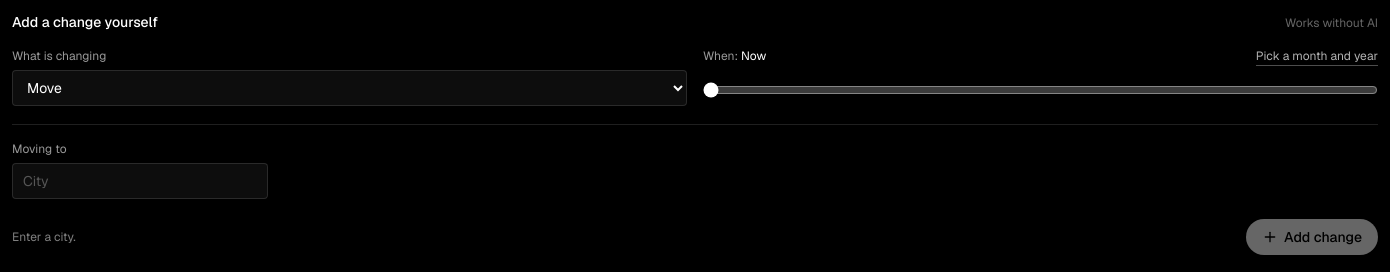
Test case: ManualEventForm: choosing a date as a month and year › you can go back to the slider
The image size is (1390, 272).
Click the button "Pick a month and year": x=1317, y=57 [1256,48,1378,66]
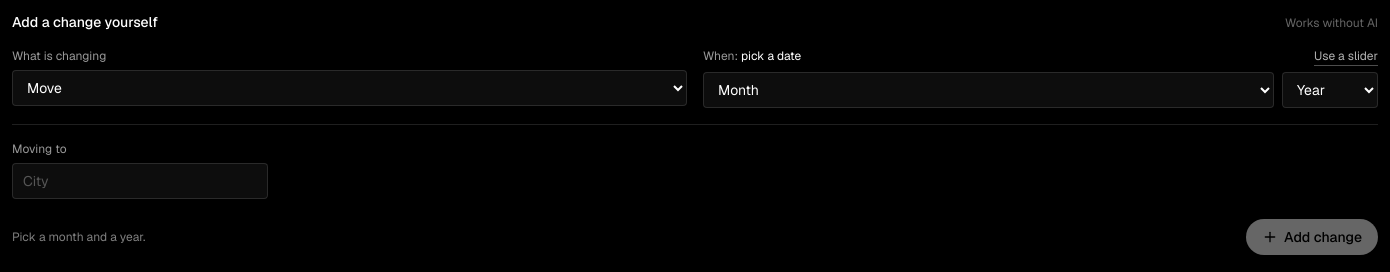
Click the button "Use a slider": x=1346, y=57 [1314,48,1378,66]
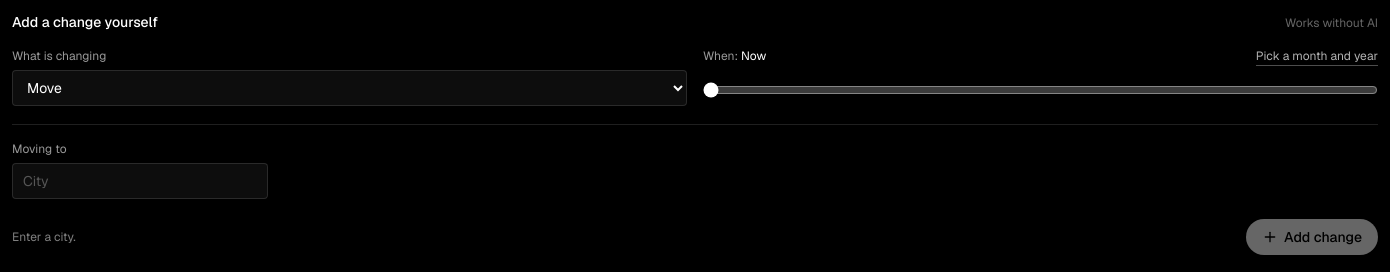
Expected: the slider is shown, [703,72,1378,108]
